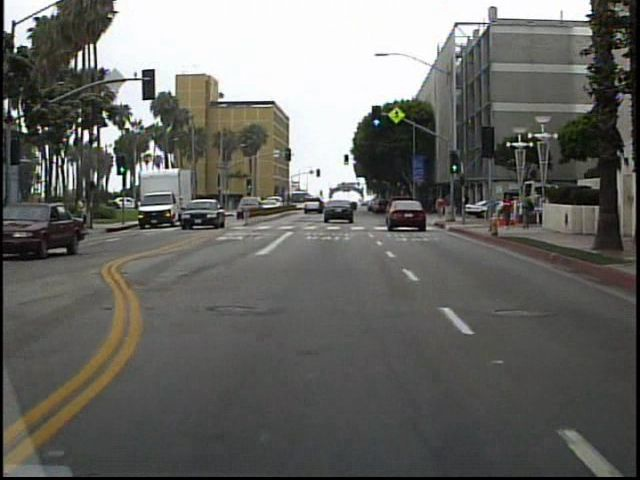person: (73, 194, 91, 238), (433, 195, 448, 219)
